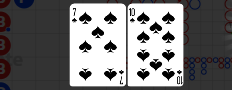10C: (128, 6, 136, 23)
7C: (71, 6, 78, 24)
